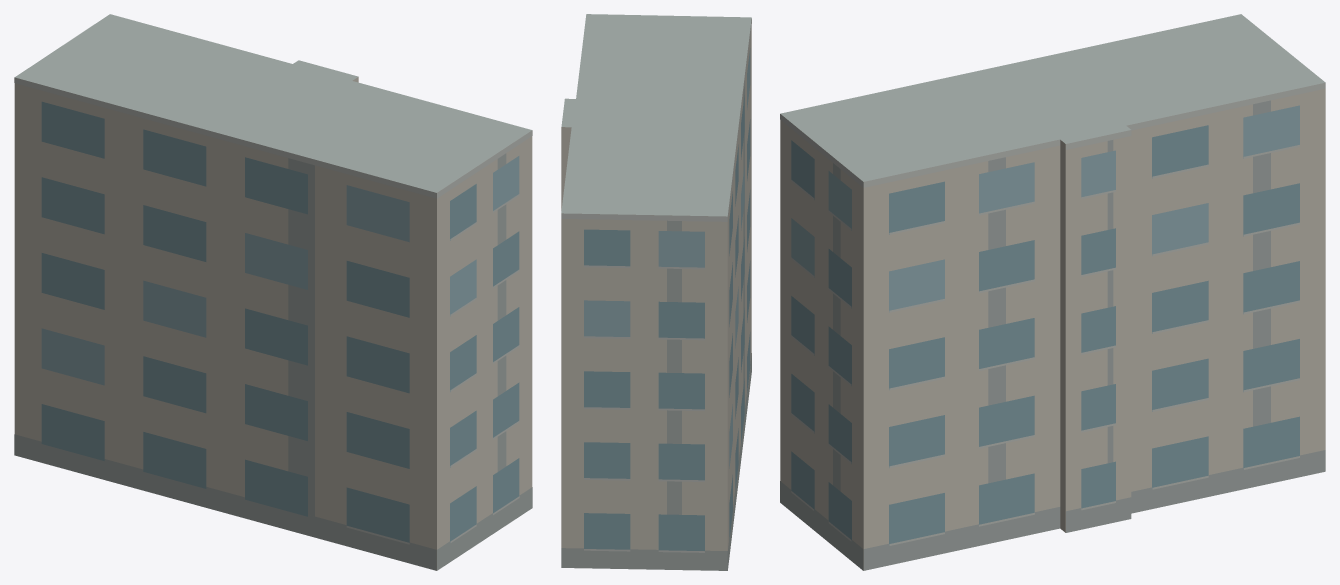
Rendered from survey-upis-32617608.glb.
3 renders of one model, left to right at view 1: azimuth 30°, elevation 25°; view 2: azimuth 150°, elevation 25°; view 3: azimuth 270°, elevation 25°, orthographic. The views are drawn at different scales.
Visible parts, largest first — view 1: survey-upis-32617608.tmp; view 2: survey-upis-32617608.tmp; view 3: survey-upis-32617608.tmp.
Part boxes in pixels (<box>): survey-upis-32617608.tmp: <box>14,14,532,570</box>; survey-upis-32617608.tmp: <box>561,14,751,570</box>; survey-upis-32617608.tmp: <box>780,14,1325,570</box>.
Bounding box in the file's own units: 14.73 × 15.9 × 20.22.
